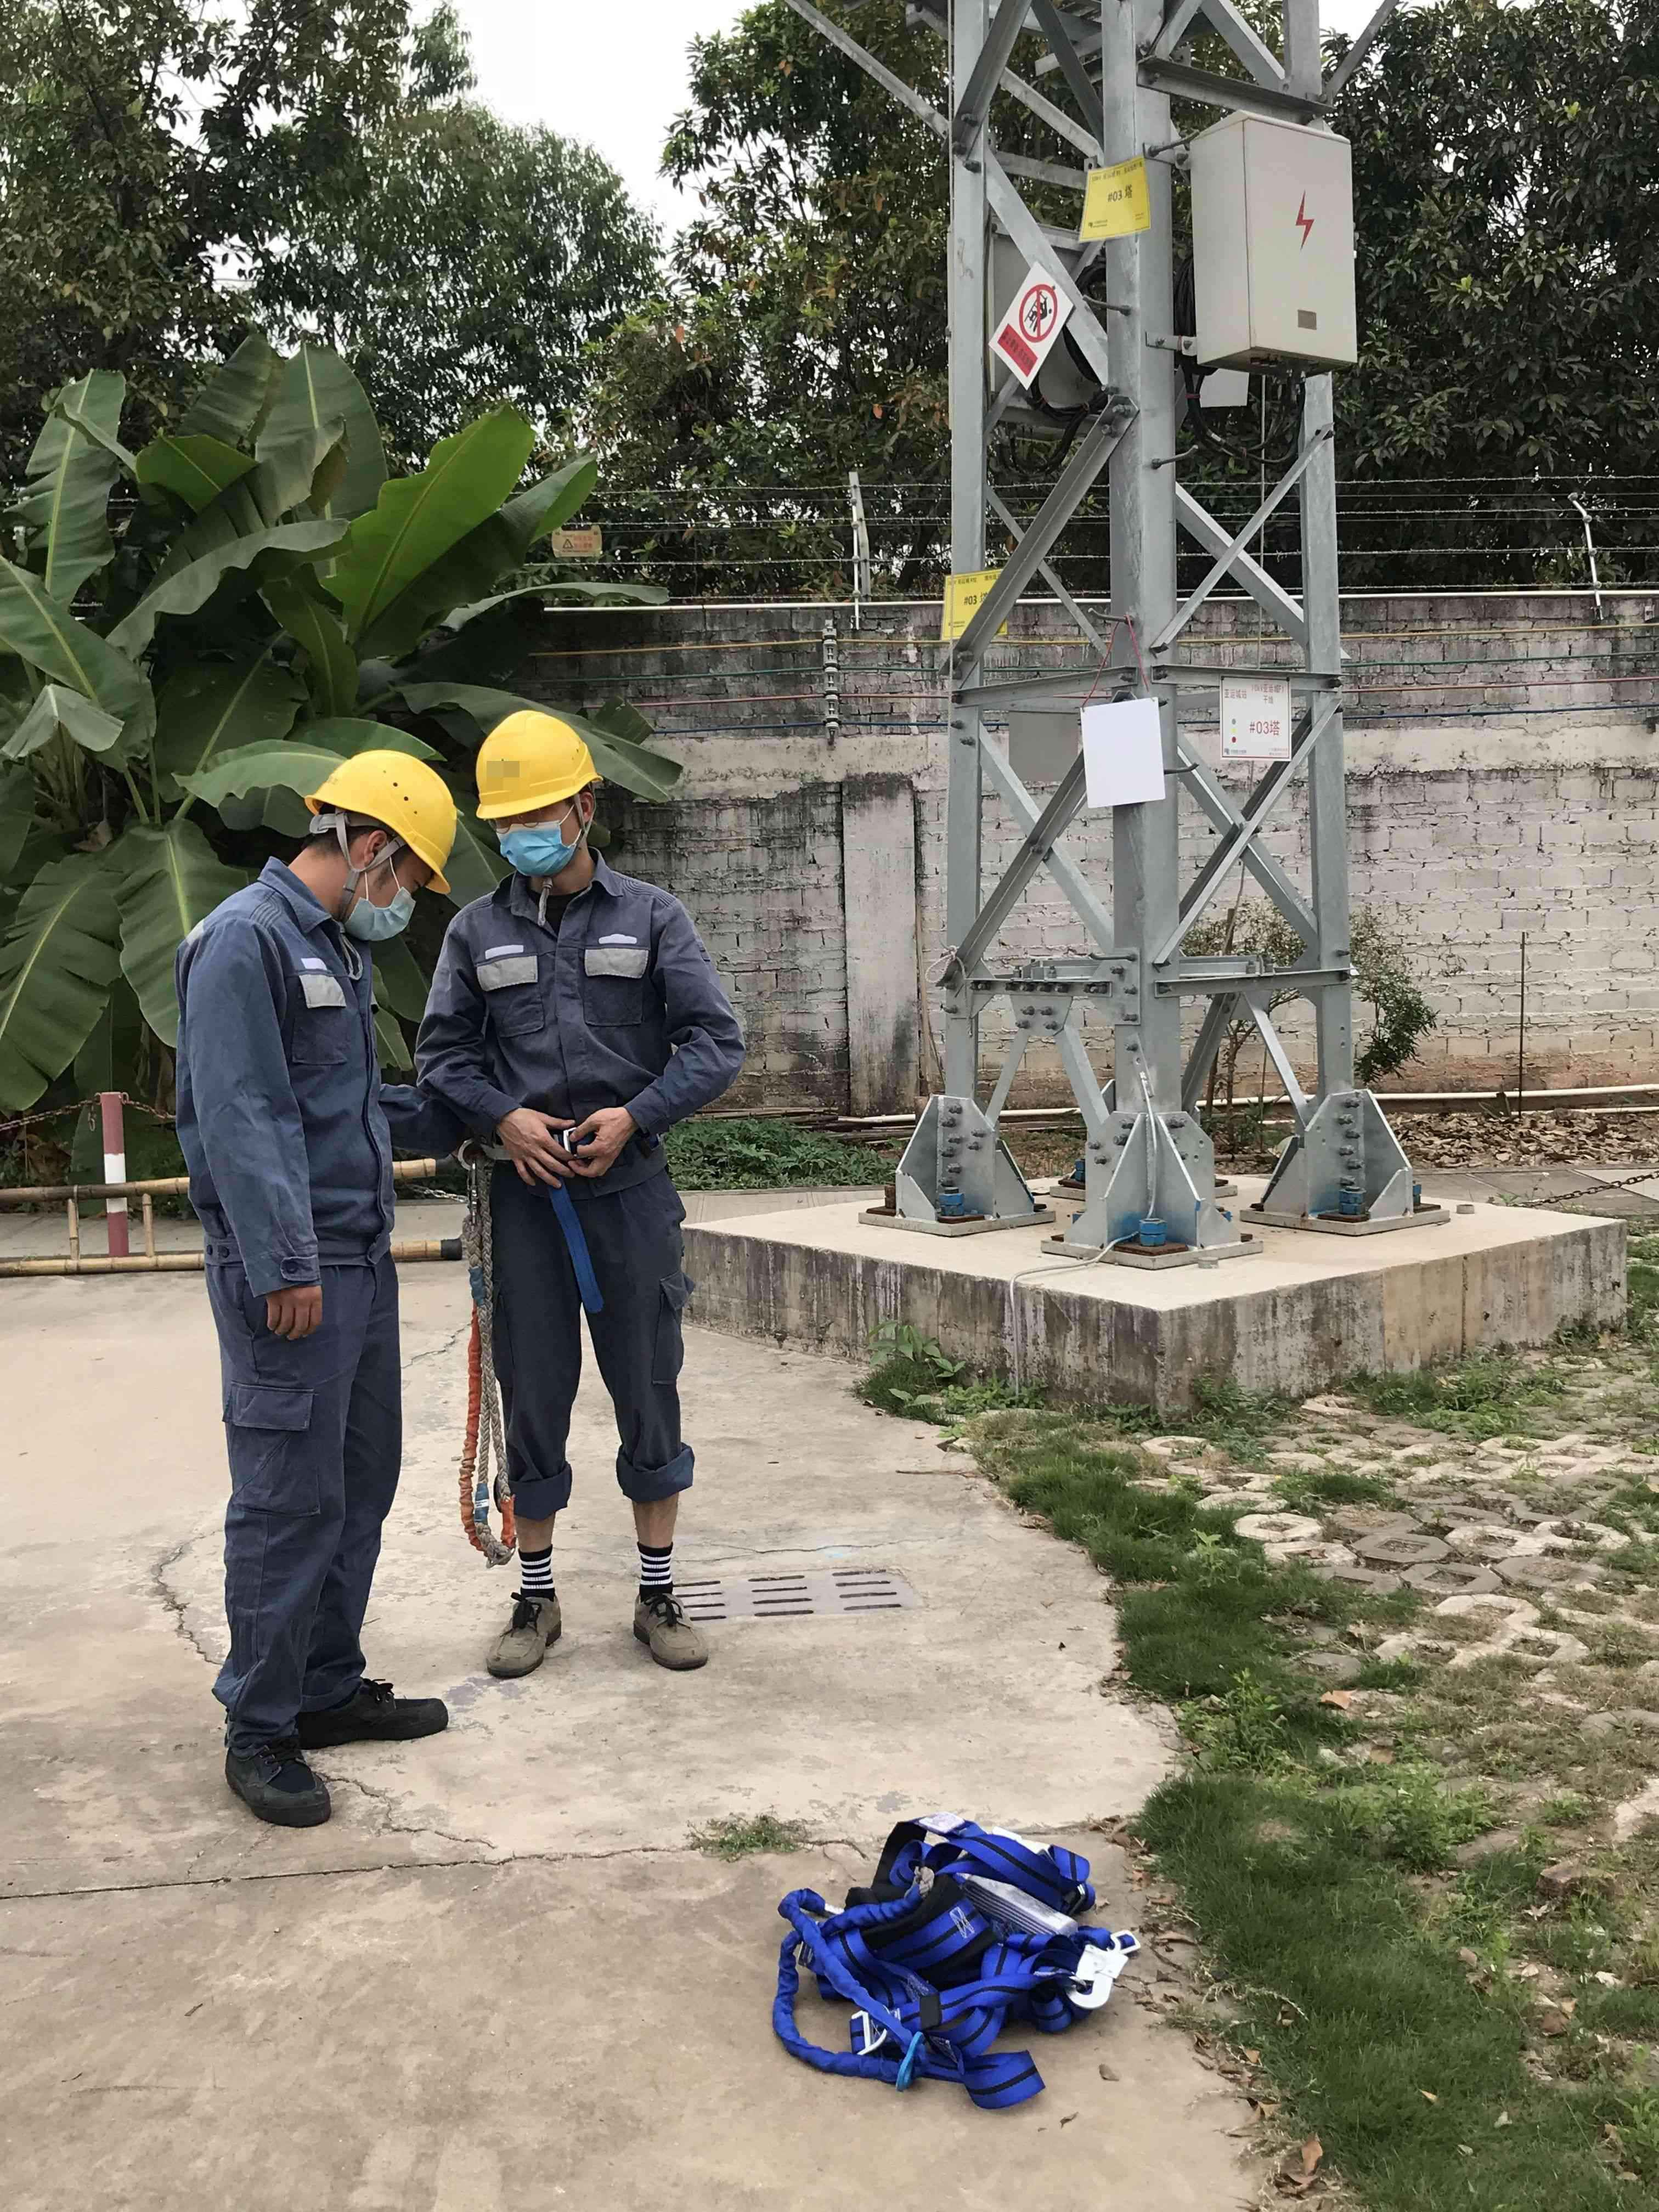downsuit: (202, 1252, 408, 1738), (476, 1151, 695, 1524)
upsuit: (411, 857, 749, 1197), (171, 853, 399, 1301)
wrongbottom: (617, 1444, 695, 1552), (497, 1465, 575, 1557)
